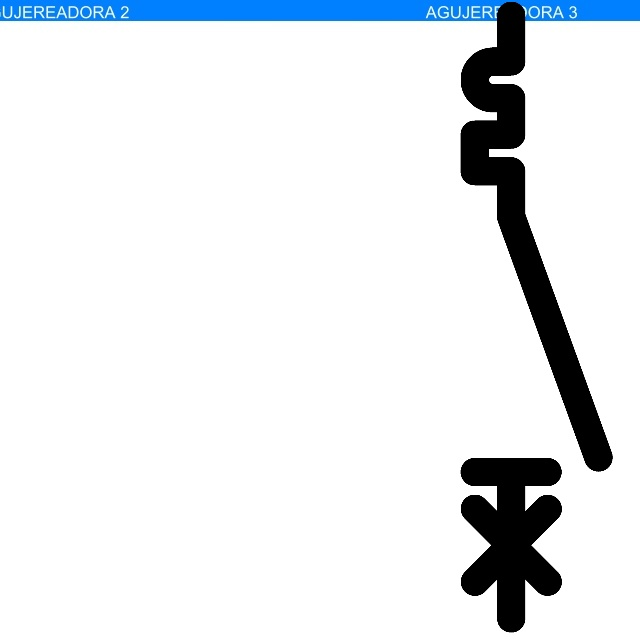interruptor_termomagnetico: (459, 0, 614, 633)
